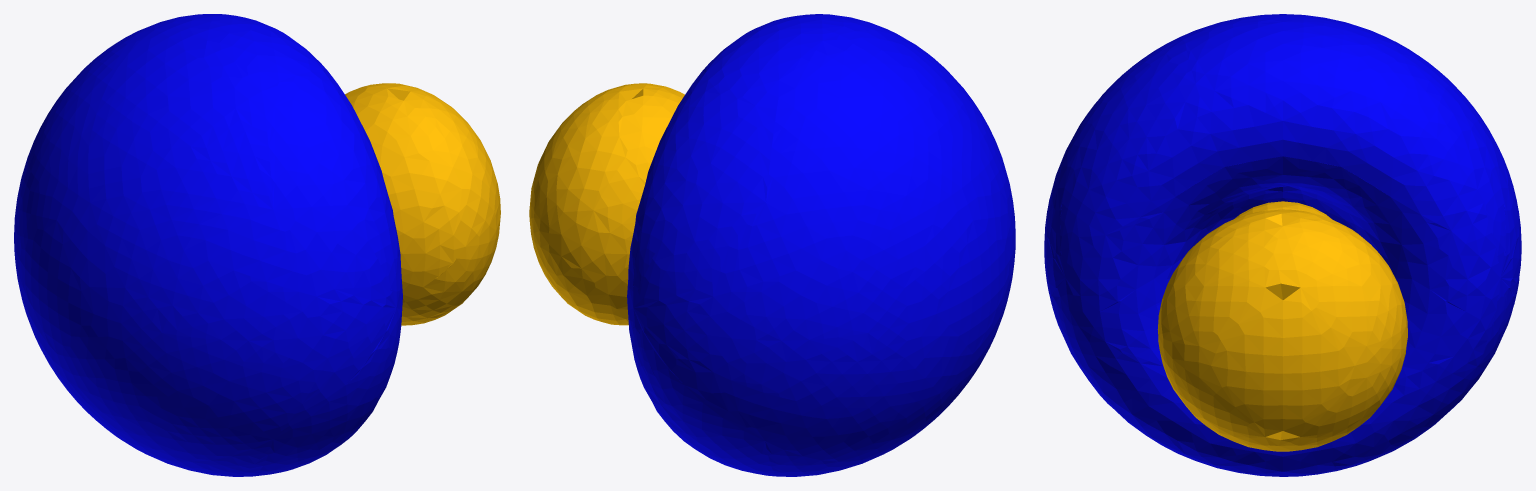
3 renders of one model, left to right at view 1: azimuth 30°, elevation 25°; view 2: azimuth 150°, elevation 25°; view 3: azimuth 270°, elevation 25°, orthographic. The views are drawn at different scales.
Size of the model in its own units: 21.56 by 20.06 by 20.06.
